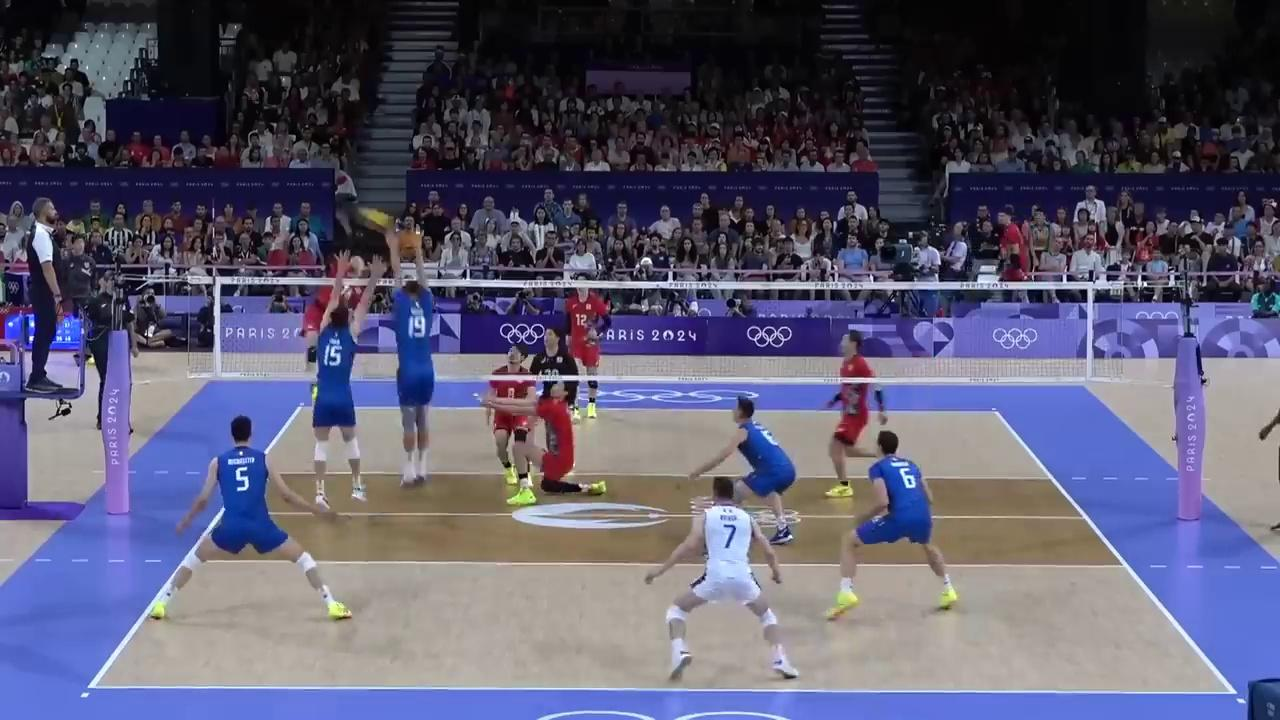ball: (356, 207, 394, 231)
